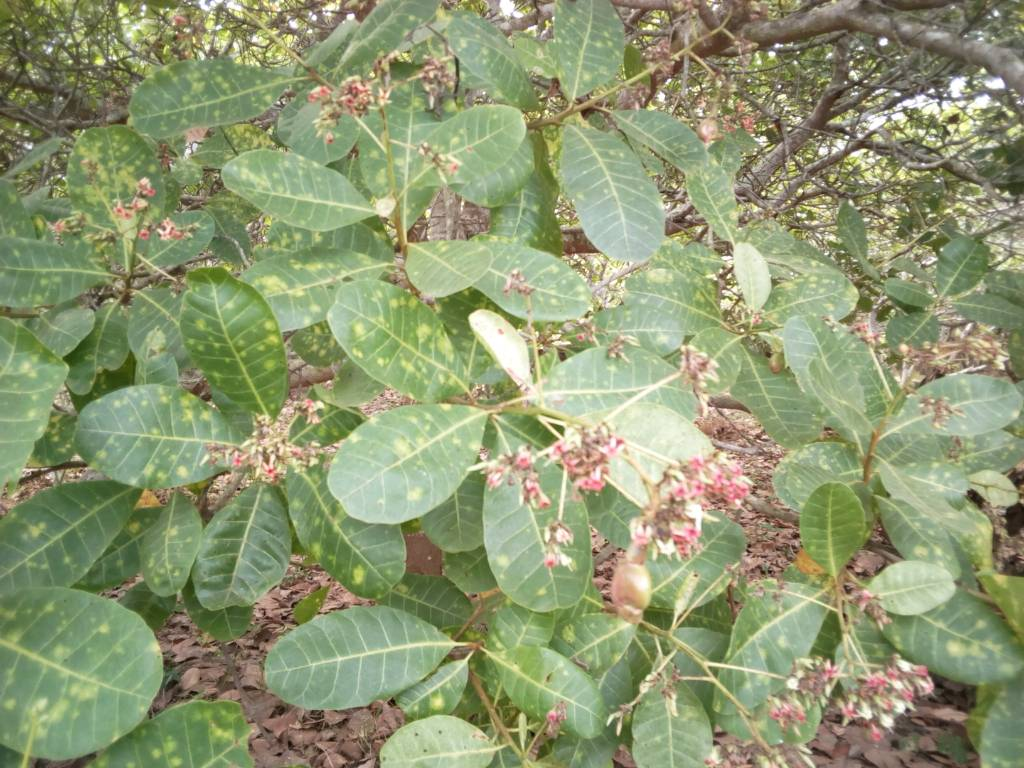Carence minérale: (6, 579, 161, 768), (323, 387, 485, 526), (70, 374, 245, 499), (316, 274, 479, 408), (479, 448, 601, 615), (1, 471, 163, 596), (175, 263, 301, 423), (550, 120, 690, 262), (520, 343, 710, 434), (213, 139, 388, 234), (116, 55, 301, 142), (59, 123, 182, 239), (892, 370, 1022, 452), (420, 102, 536, 192), (764, 435, 874, 521)
